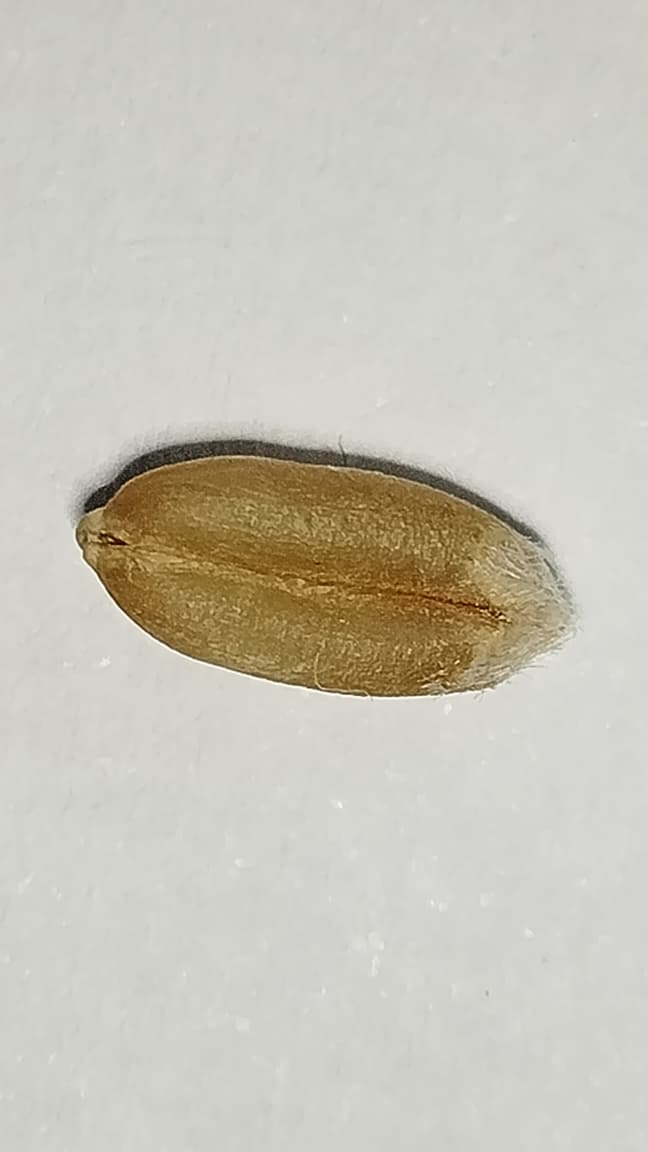healthy: (77, 456, 577, 696)
